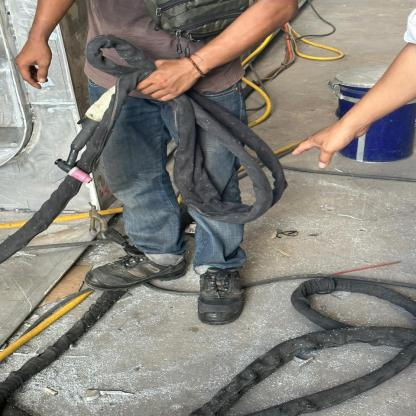bota: (80, 239, 193, 291), (191, 258, 252, 339)
